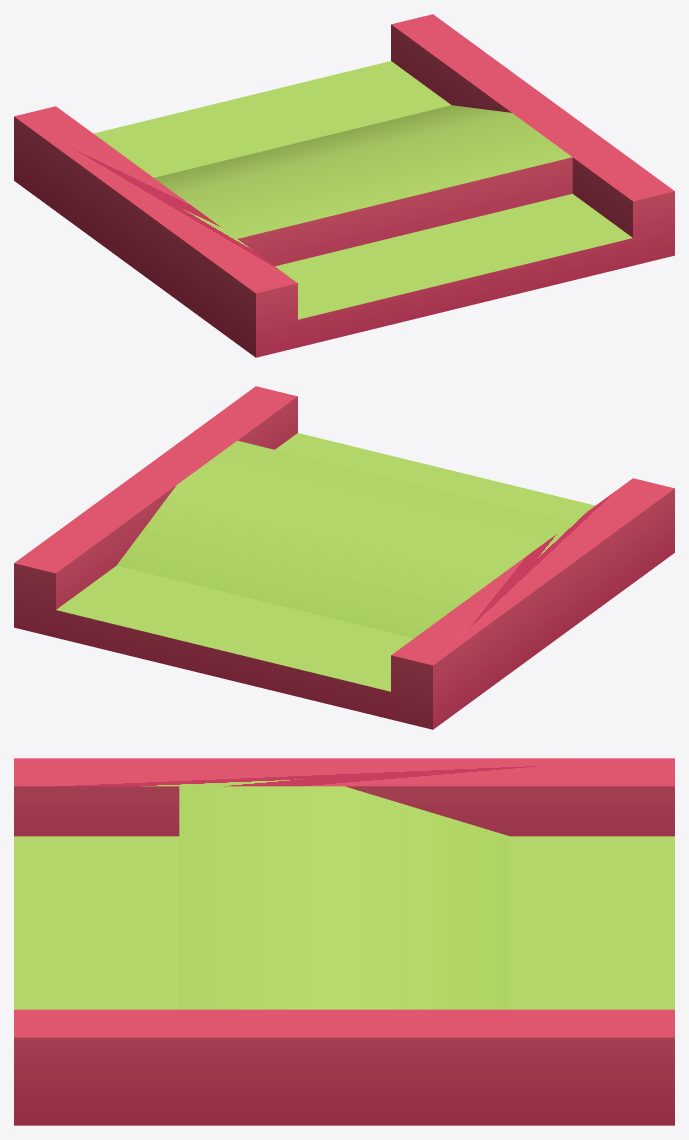
The model's file is ramp-square.fbx.
3 renders of one model, top to bottom at view 1: azimuth 30°, elevation 25°; view 2: azimuth 150°, elevation 25°; view 3: azimuth 270°, elevation 25°, orthographic. The views are drawn at different scales.
Visible parts, largest first — view 1: ramp_square; view 2: ramp_square; view 3: ramp_square.
Part boxes in pixels (x1,y1,x2,y2): ramp_square: (14,14,674,357); ramp_square: (14,386,674,729); ramp_square: (14,758,674,1125).
Bounding box in the file's own units: 99.99 × 14.67 × 99.99.
1 material, 1 textured.
